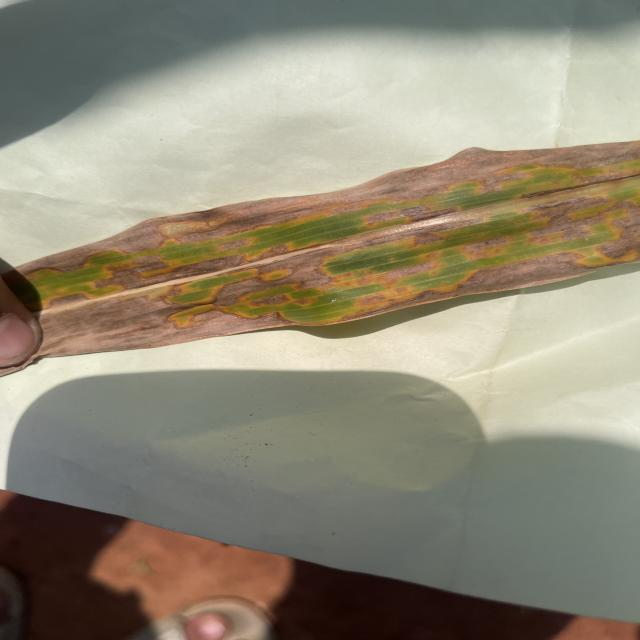millet_rust: (0, 135, 640, 379)
